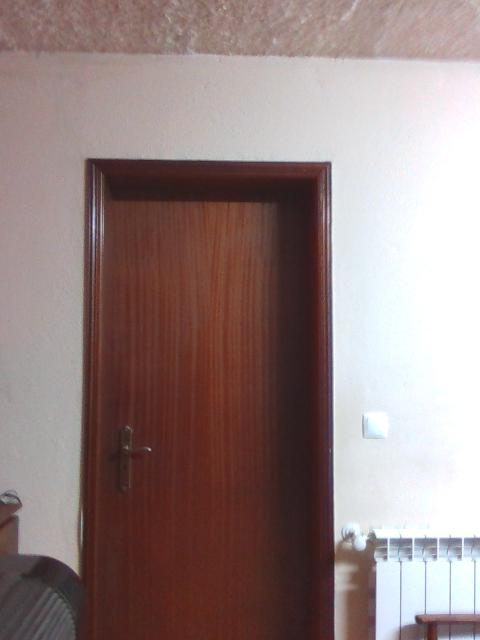closed_door: (80, 159, 335, 638)
